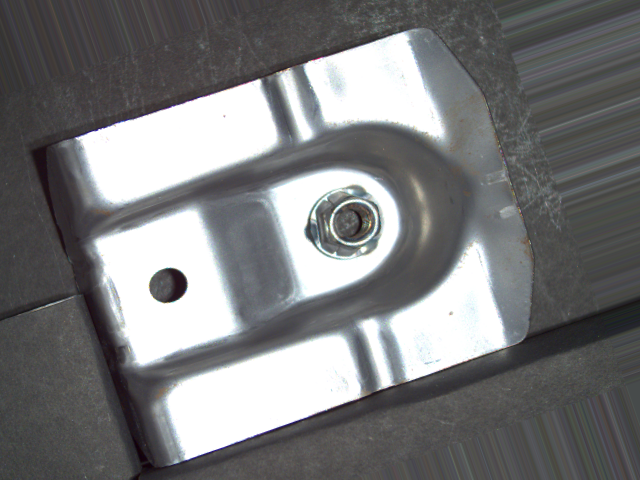good: (303, 180, 389, 264)
